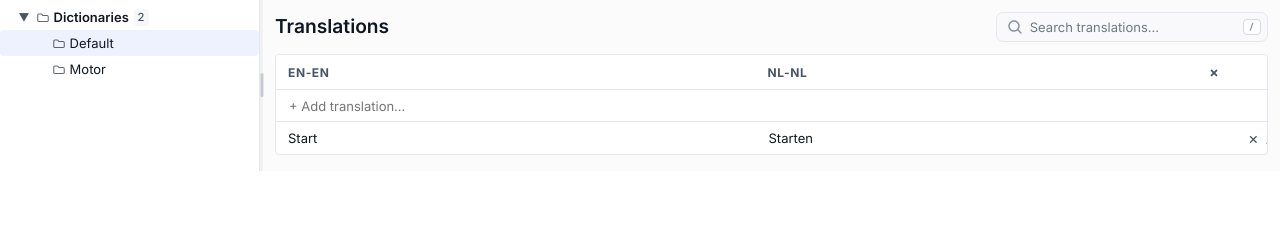
Scenario: TranslationsView › says nothing matched rather than showing an empty table
Type "zzz" into the search field at (1133, 27), box [1030,13,1235,41]
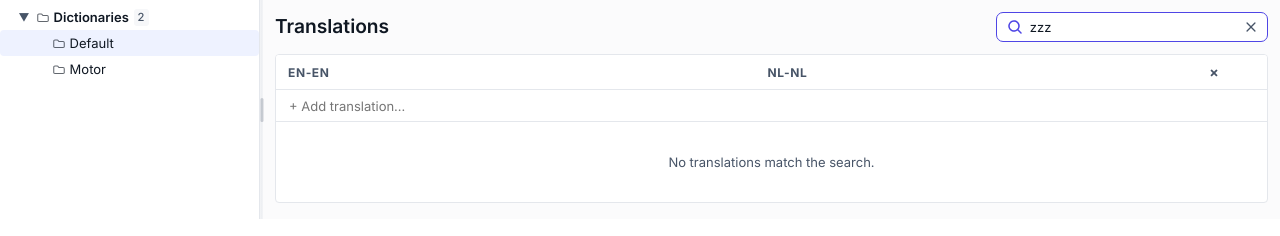
Check: the text "No translations match the search." is shown, box [276,122,1267,202]
